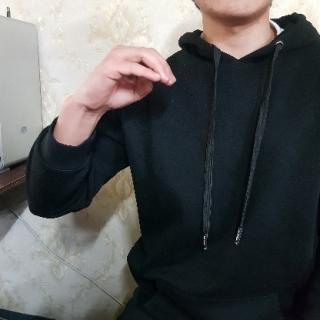JEEM: (68, 41, 180, 122)
